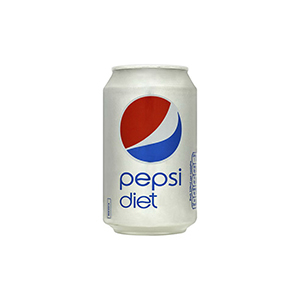pepsi: (118, 95, 181, 162)
